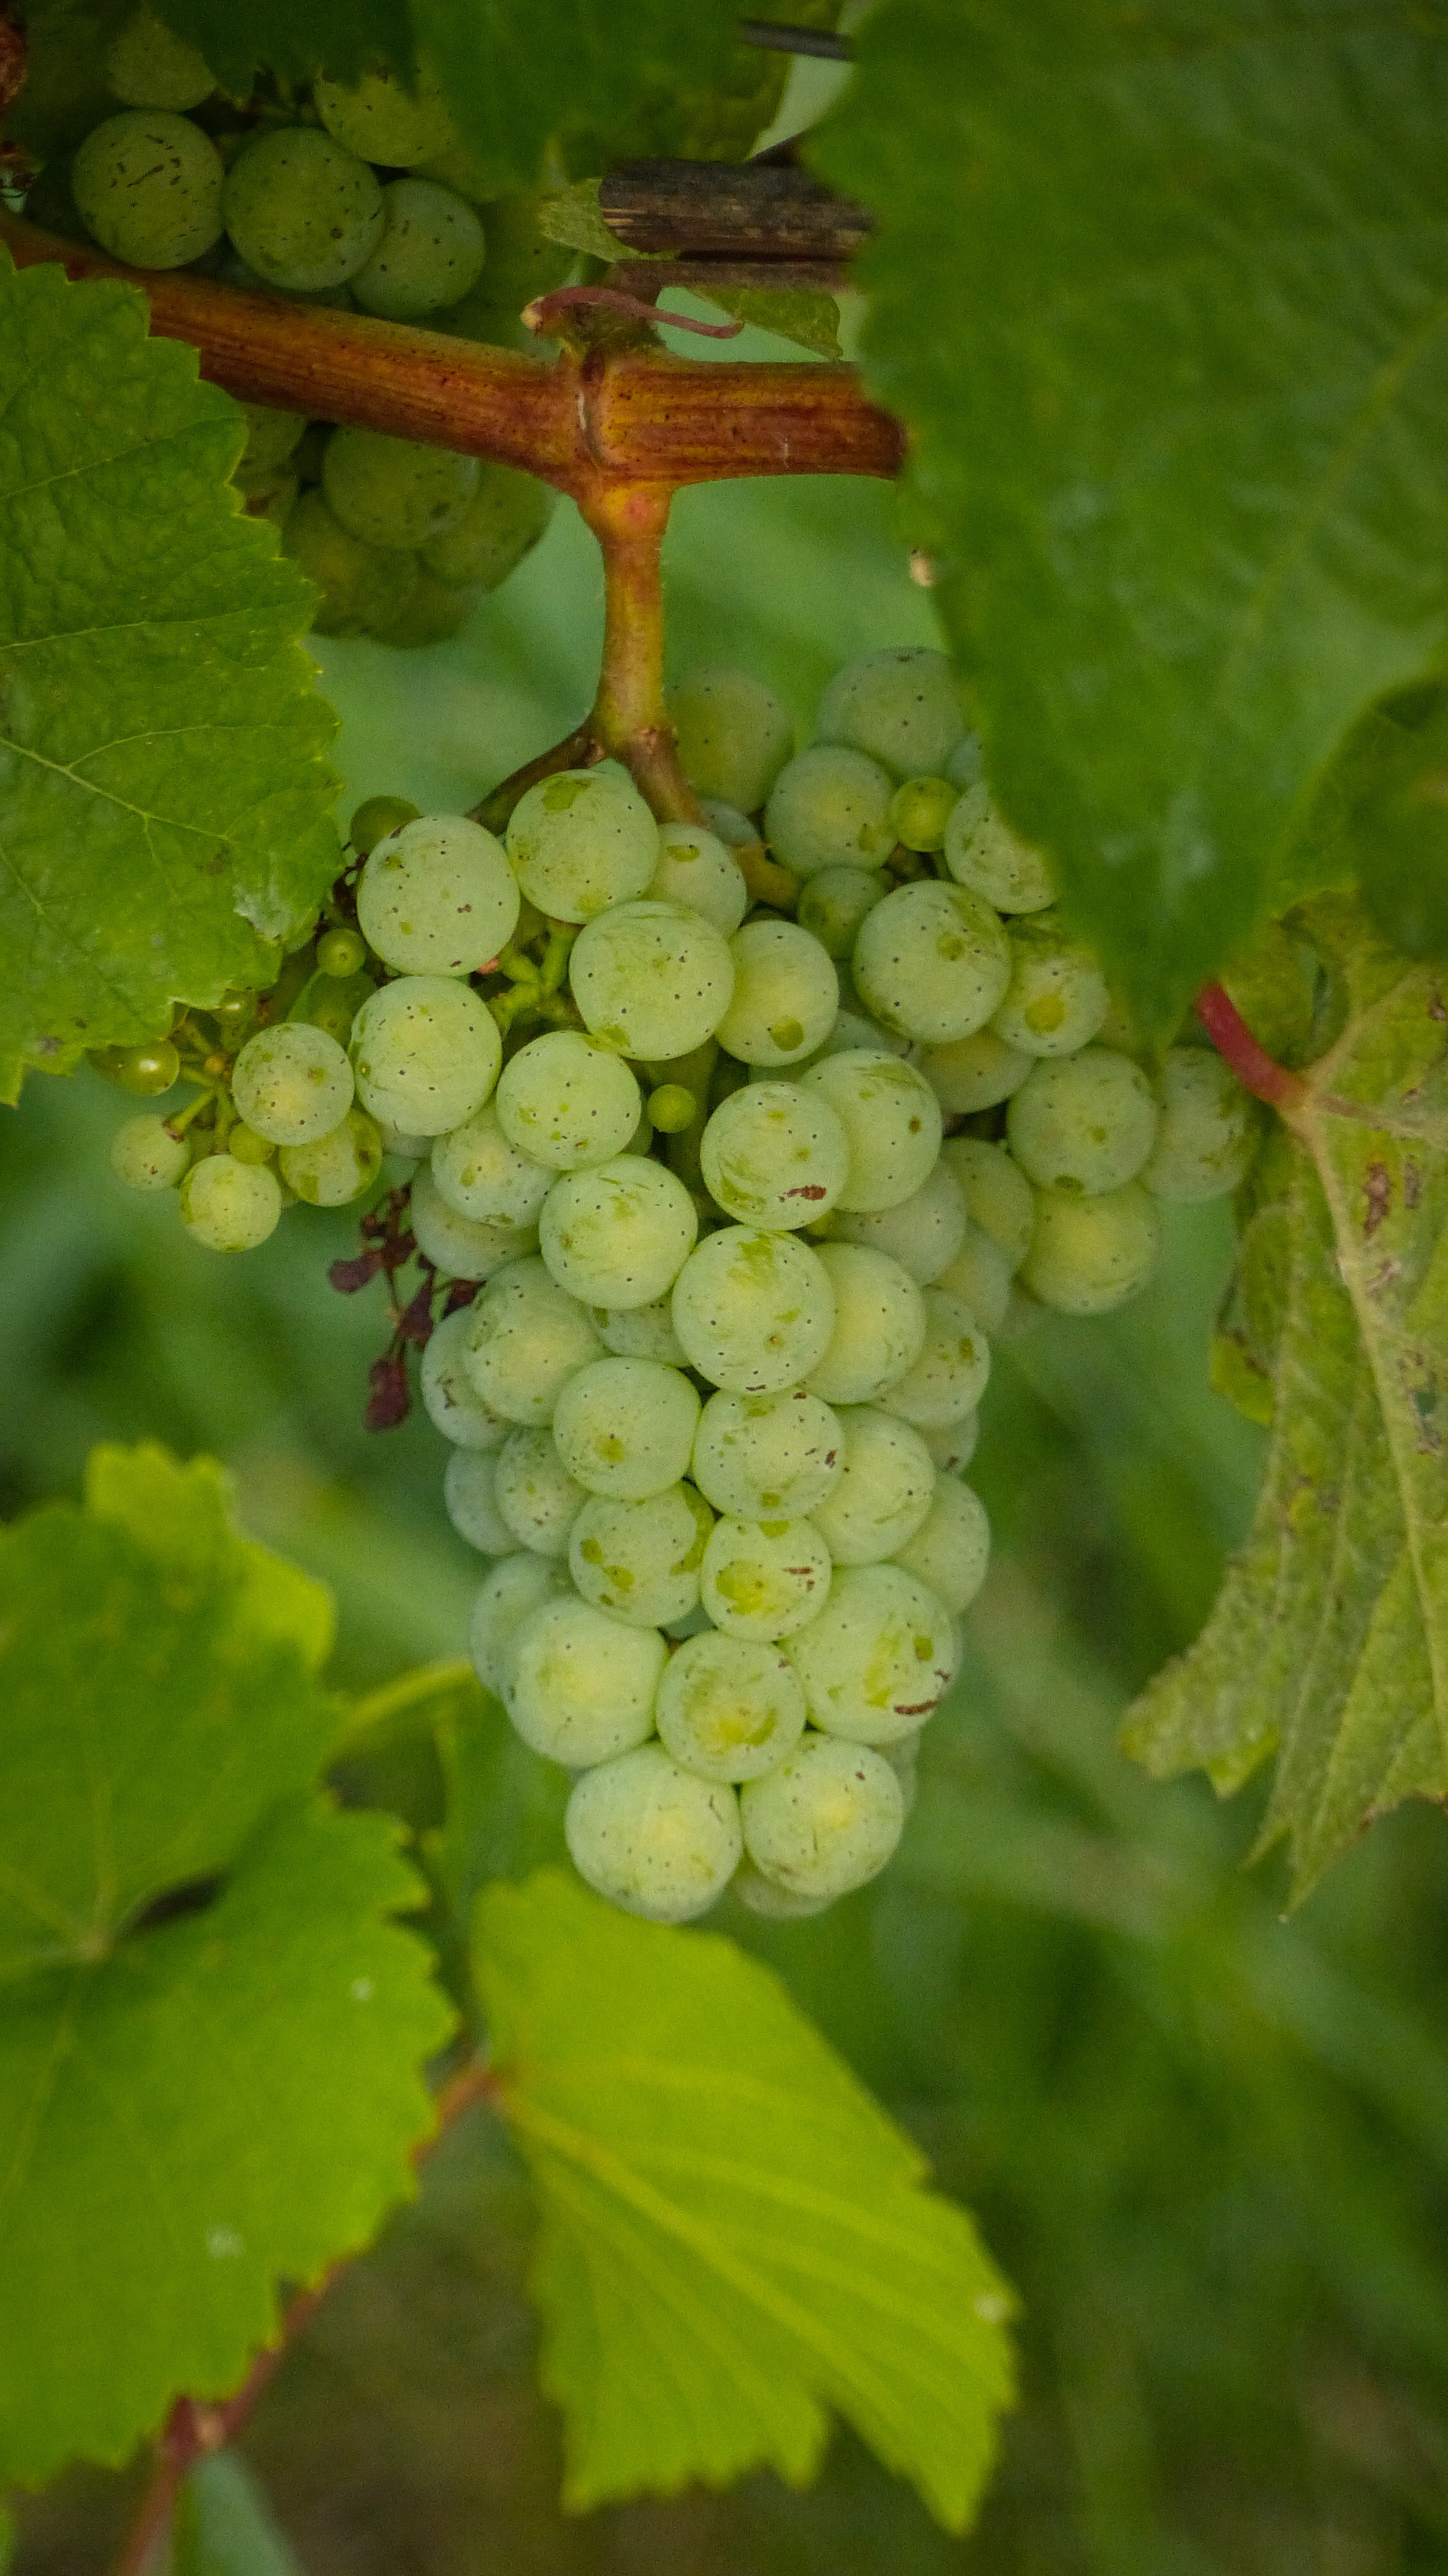Healthy: (359, 812, 519, 984), (497, 1612, 673, 1766), (574, 1753, 724, 1925), (676, 1226, 836, 1387), (809, 1573, 959, 1741), (575, 904, 726, 1067), (352, 978, 506, 1134), (689, 1092, 857, 1233), (501, 770, 655, 920), (540, 1166, 703, 1307), (747, 1744, 897, 1895), (811, 1051, 947, 1212), (864, 883, 1002, 1037), (823, 637, 997, 755), (664, 660, 802, 809), (469, 1267, 602, 1419), (1014, 1049, 1159, 1184), (809, 1415, 935, 1562), (719, 922, 843, 1070), (802, 1246, 919, 1403), (765, 741, 897, 876), (506, 1037, 646, 1162), (1043, 1196, 1165, 1332), (227, 1024, 361, 1146), (1152, 1049, 1267, 1191), (703, 1387, 832, 1513), (584, 1495, 717, 1617), (676, 1645, 809, 1766), (568, 1371, 701, 1491), (959, 784, 1082, 913), (710, 1511, 827, 1640), (876, 1295, 990, 1419), (409, 1159, 531, 1270), (439, 1111, 556, 1224), (975, 945, 1094, 1054), (897, 1483, 997, 1608), (635, 817, 740, 925), (506, 1437, 593, 1546), (421, 1323, 501, 1440), (864, 1166, 956, 1267), (189, 1157, 281, 1249), (963, 1146, 1036, 1253), (280, 1138, 377, 1212), (867, 784, 963, 858), (113, 1108, 189, 1187), (451, 1458, 504, 1562)
